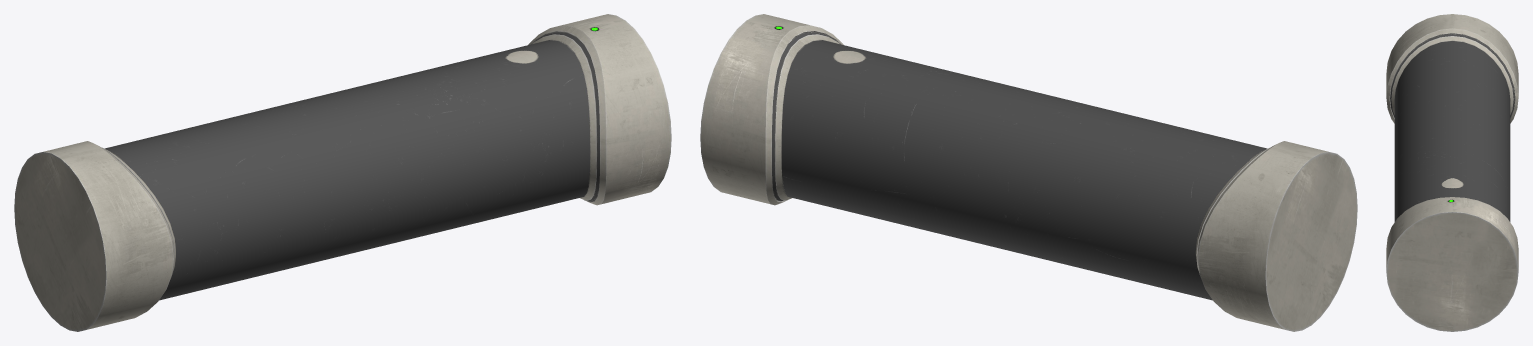
File: grip_5_c_d.glb
3 views of the same model, side by side, from view 1: azimuth 30°, elevation 25°; view 2: azimuth 150°, elevation 25°; view 3: azimuth 270°, elevation 25° (orthographic). The views are drawn at different scales.
Visible parts, largest first — view 1: grip_5_c_d_lod0; view 2: grip_5_c_d_lod0; view 3: grip_5_c_d_lod0.
Boxes of the visible parts, <box> form: grip_5_c_d_lod0: <box>14,14,671,331</box>; grip_5_c_d_lod0: <box>700,14,1357,331</box>; grip_5_c_d_lod0: <box>1386,14,1518,331</box>.
Size of what is drawn, in the model's own units: 0.1054 by 0.0298 by 0.0298.
Materials: 1 (1 with a texture image).
